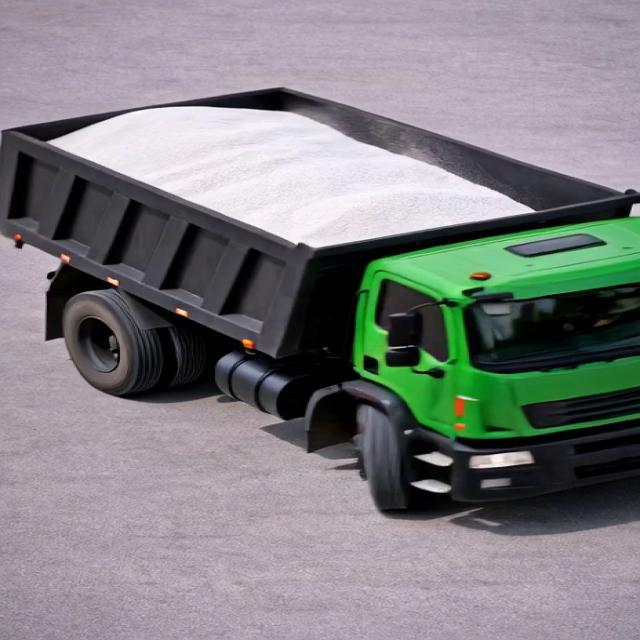trailer: (1, 86, 639, 261)
truck: (0, 78, 634, 506)
